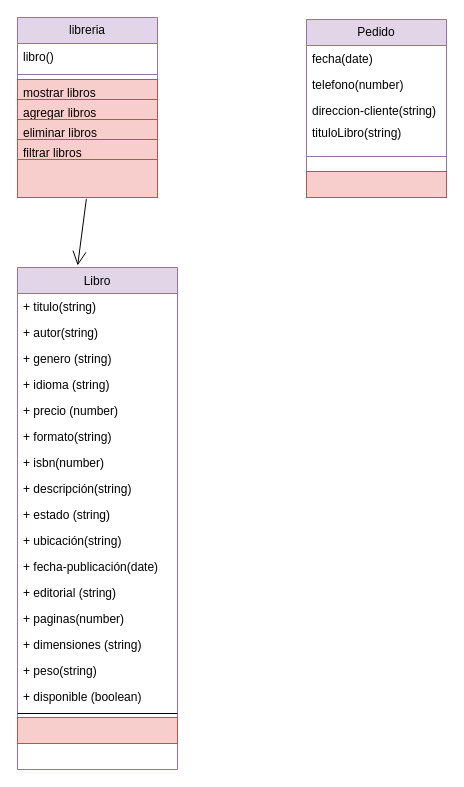
Image size: 464x787. Some labels were removed from this diagram. Here are the shapes that lost their labels. From the top down, the centre of each, then its label:
At pixel 87 178: "ordenar por paginas libros".
At pixel 376 184: "entregarpedido()".
At pixel 97 730: "Mostrar-información()".
